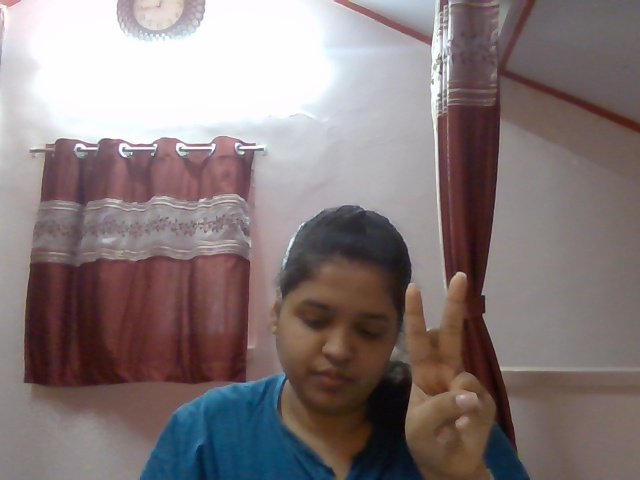v: (385, 269, 513, 464)
